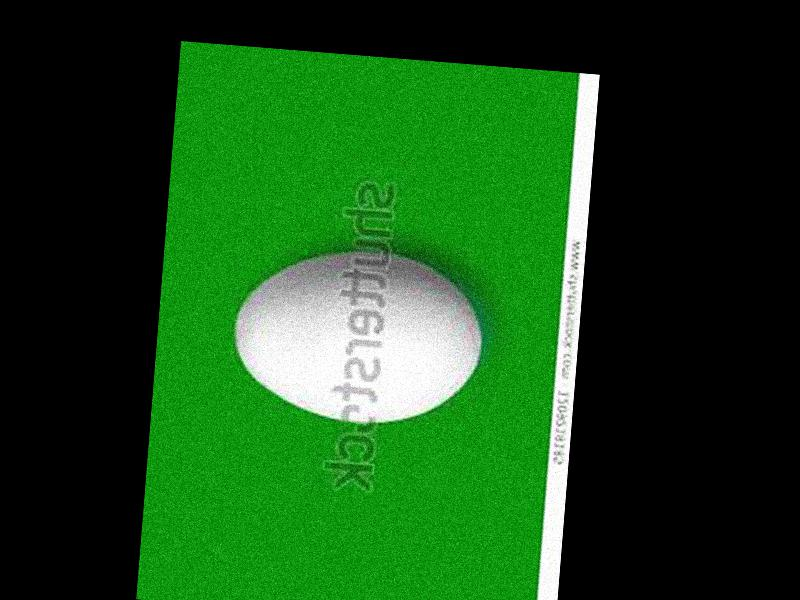Eggs: (228, 240, 486, 430)
